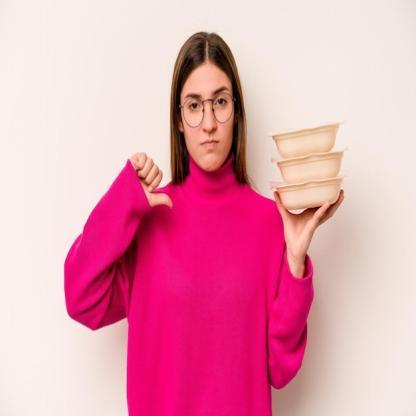thumb_down: (127, 146, 174, 212)
